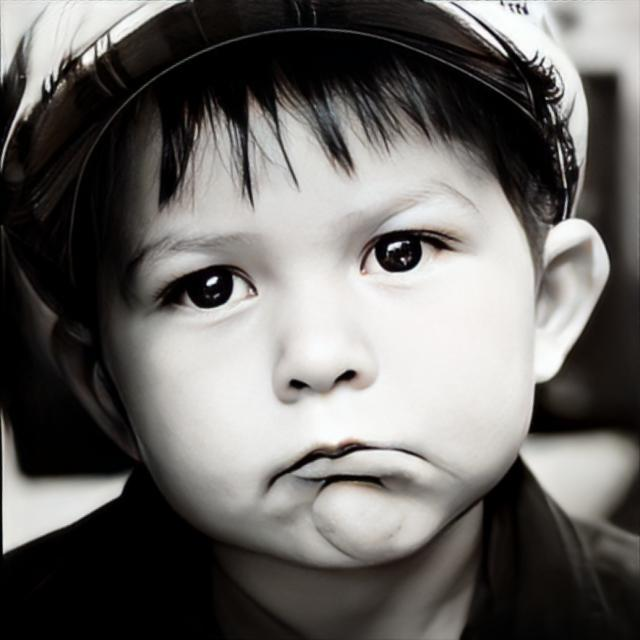sad: (110, 91, 534, 568)
